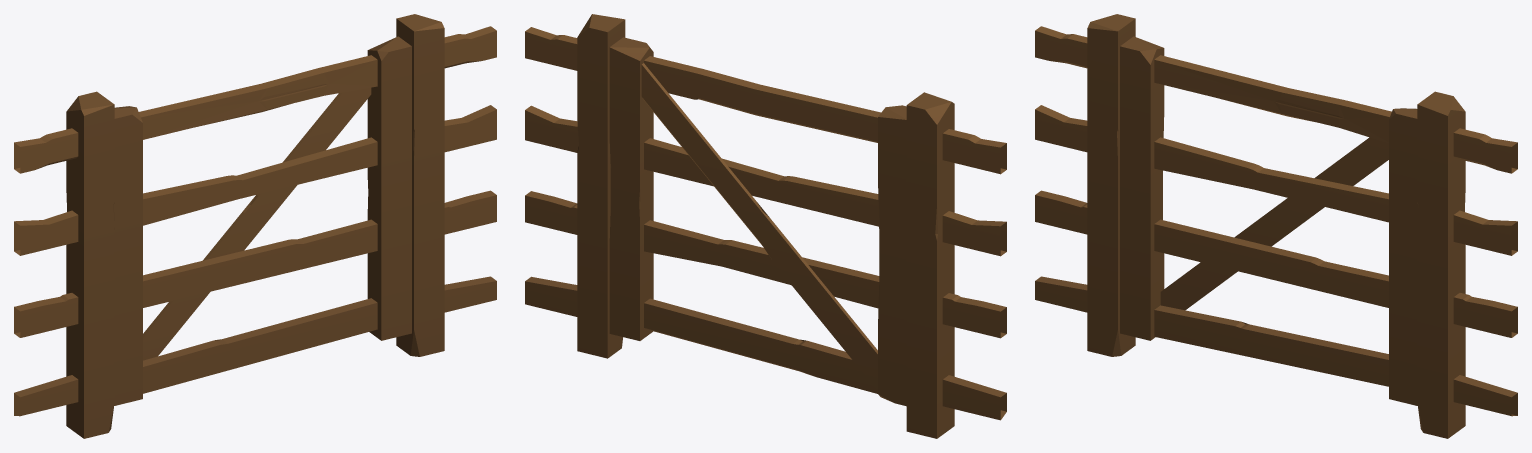
The model's file is Bld_01_Fence_Wood_Gate_Single_Short_Sides_Worned_01.obj.
The picture shows the model from 3 angles, left to right: view 1: azimuth 30°, elevation 25°; view 2: azimuth 150°, elevation 25°; view 3: azimuth 330°, elevation 25°; orthographic projection.
Parts seen in each view (by area): view 1: Bld_01_Fence_Wood_Gate_Single_Short_Worned_01, Bld_01_Fence_Wood_Gate_Single_Short_Sides_Worned_01; view 2: Bld_01_Fence_Wood_Gate_Single_Short_Worned_01, Bld_01_Fence_Wood_Gate_Single_Short_Sides_Worned_01; view 3: Bld_01_Fence_Wood_Gate_Single_Short_Worned_01, Bld_01_Fence_Wood_Gate_Single_Short_Sides_Worned_01.
Part boxes in pixels (box(x1,y1,x2,y2)): Bld_01_Fence_Wood_Gate_Single_Short_Worned_01: box(114, 36, 411, 405); Bld_01_Fence_Wood_Gate_Single_Short_Sides_Worned_01: box(14, 14, 496, 438); Bld_01_Fence_Wood_Gate_Single_Short_Worned_01: box(609, 37, 906, 406); Bld_01_Fence_Wood_Gate_Single_Short_Sides_Worned_01: box(525, 14, 1006, 438); Bld_01_Fence_Wood_Gate_Single_Short_Worned_01: box(1120, 36, 1417, 405); Bld_01_Fence_Wood_Gate_Single_Short_Sides_Worned_01: box(1035, 14, 1517, 438).
Bounding box in the file's own units: 1.8 × 1.18 × 0.1153.
1 material, 1 textured.
